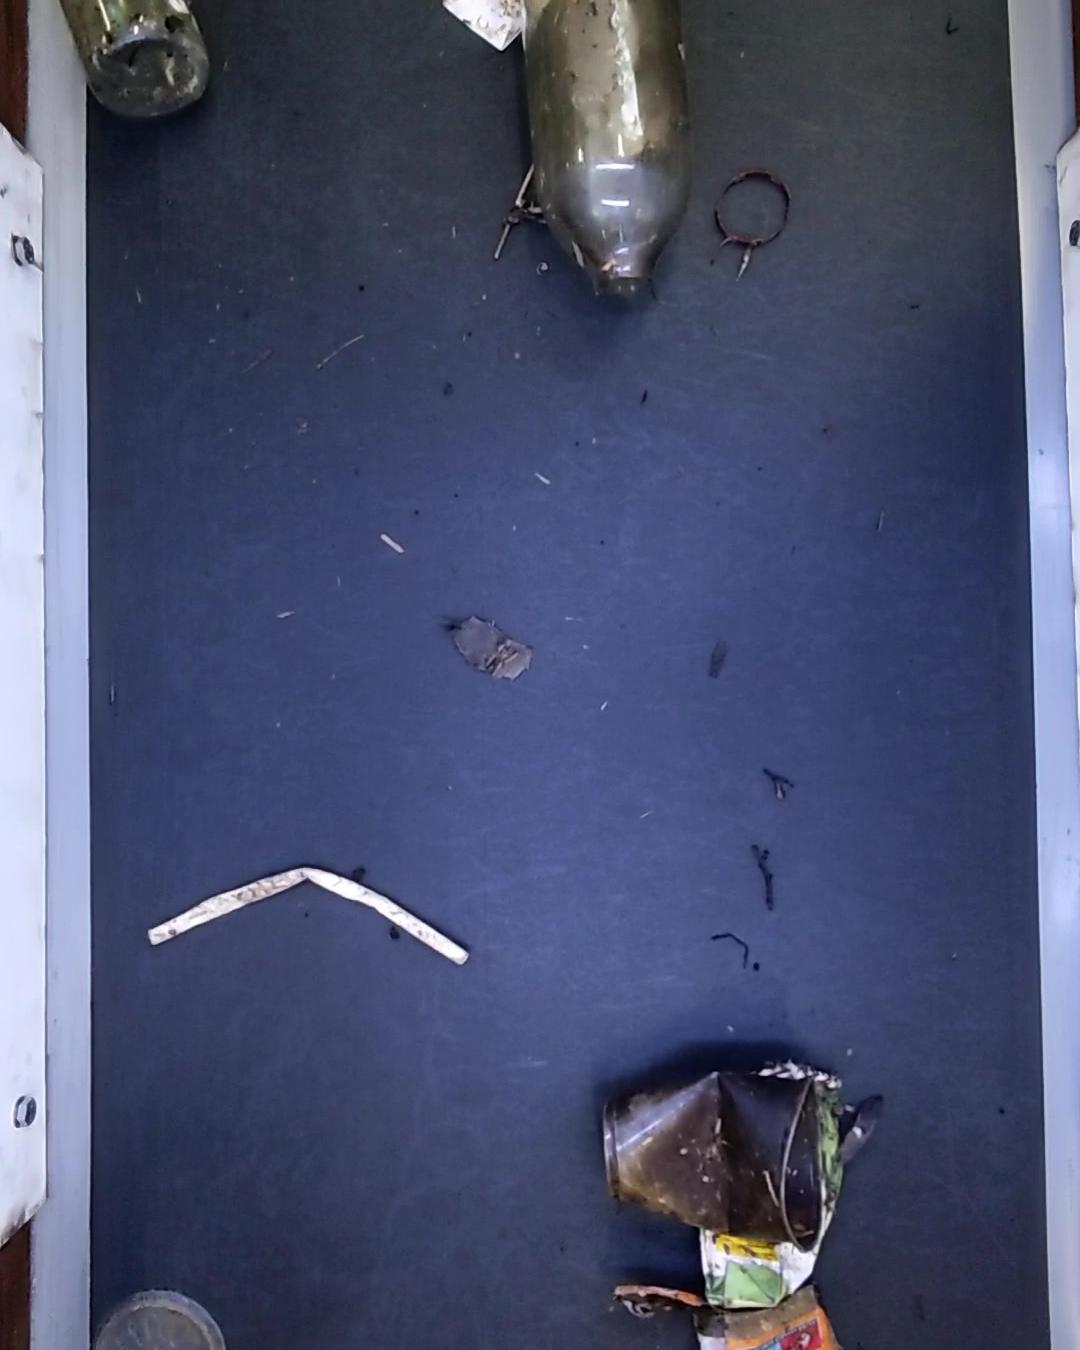Voedselverpakkingen: (700, 1066, 840, 1305)
